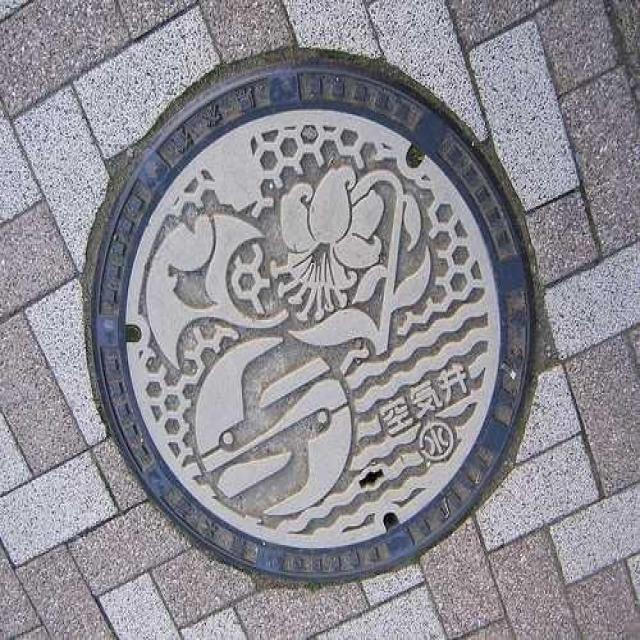manhole: (85, 50, 536, 582)
